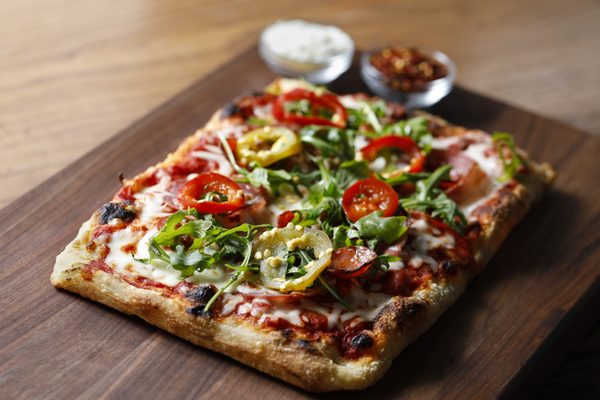sushi: (359, 45, 456, 108)
